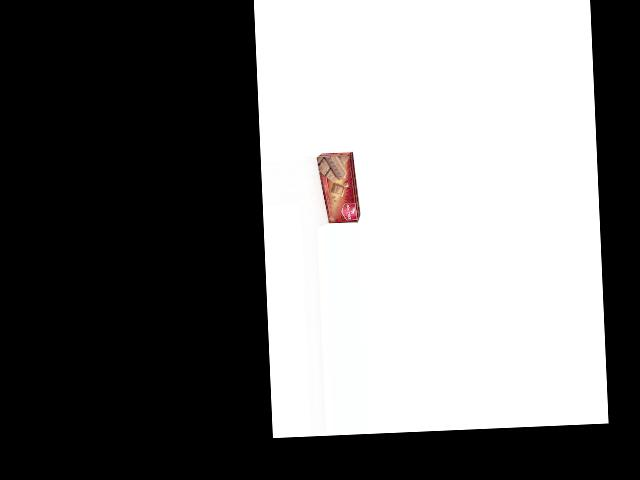chocolate: (315, 152, 361, 224)
